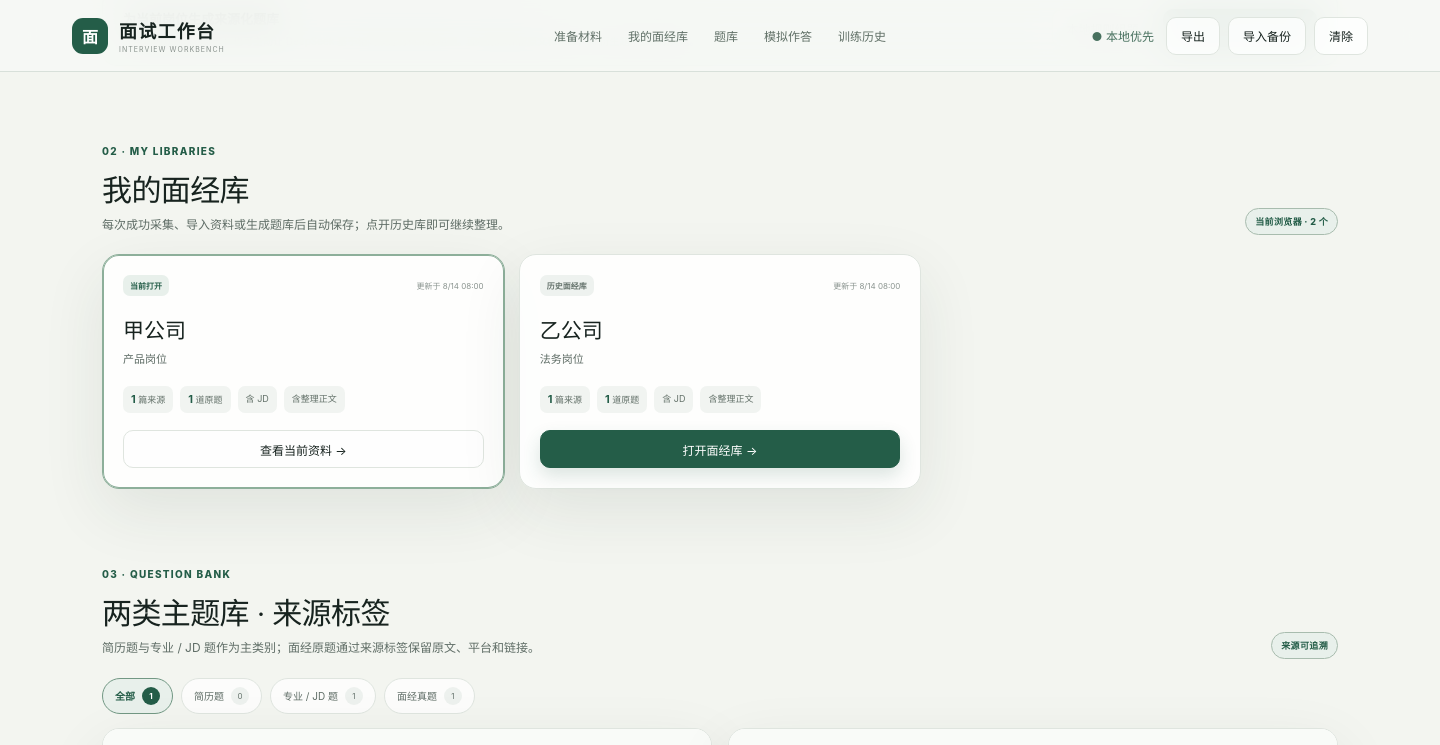
面试工作台页面核心流程 › 切换面经库后只显示当前岗位的 JD、面经和题库
The width and height of the screenshot is (1440, 745).
(page scrolled)
Expected: the element "乙公司" is shown, top-left (519, 254), bottom-right (921, 489)
Click the button "打开面经库 →".
click(720, 449)  # box top-left (540, 430), bottom-right (900, 468)
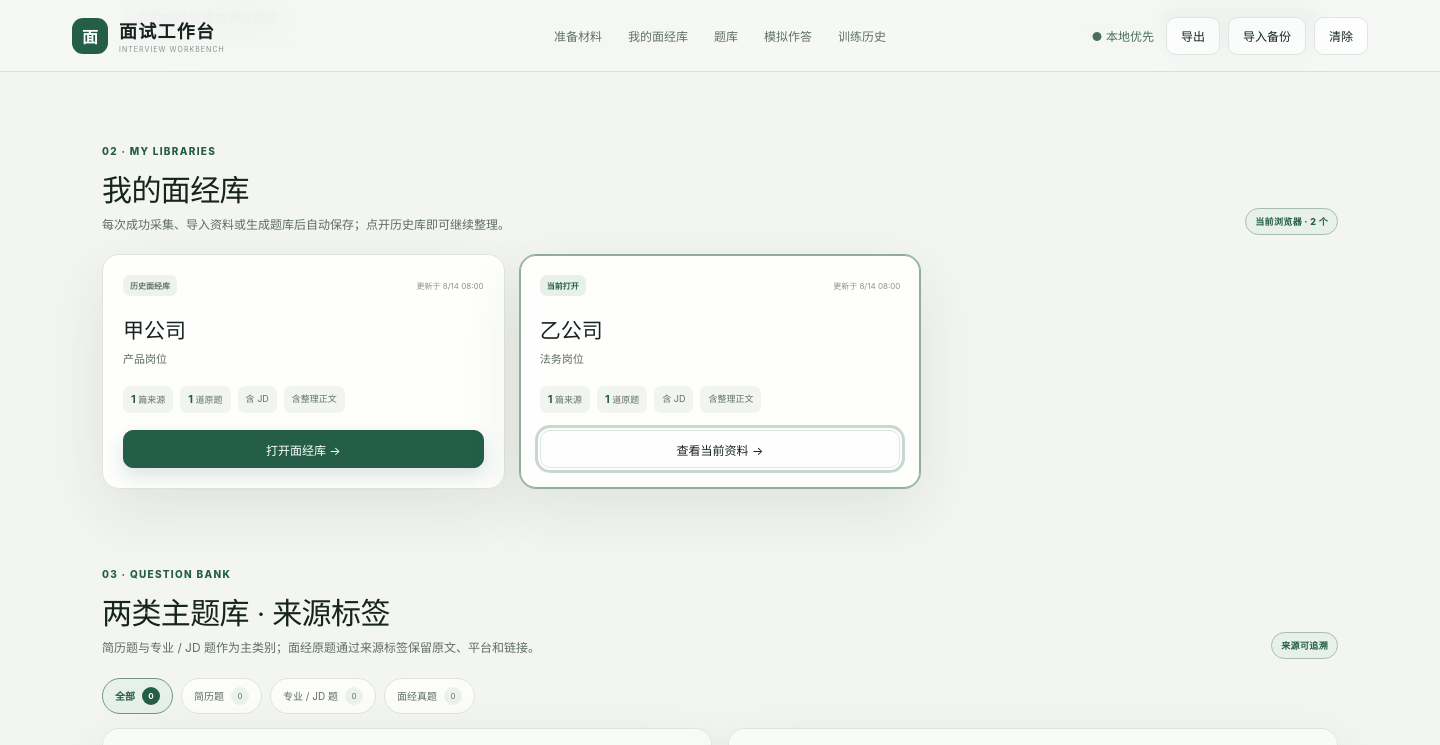
Expected: the text "甲公司专属面经" is not shown
Expected: the element "甲公司" is shown, top-left (102, 254), bottom-right (505, 489)
Click the button "打开面经库 →".
click(303, 449)  # box top-left (123, 430), bottom-right (484, 468)
(page scrolled)
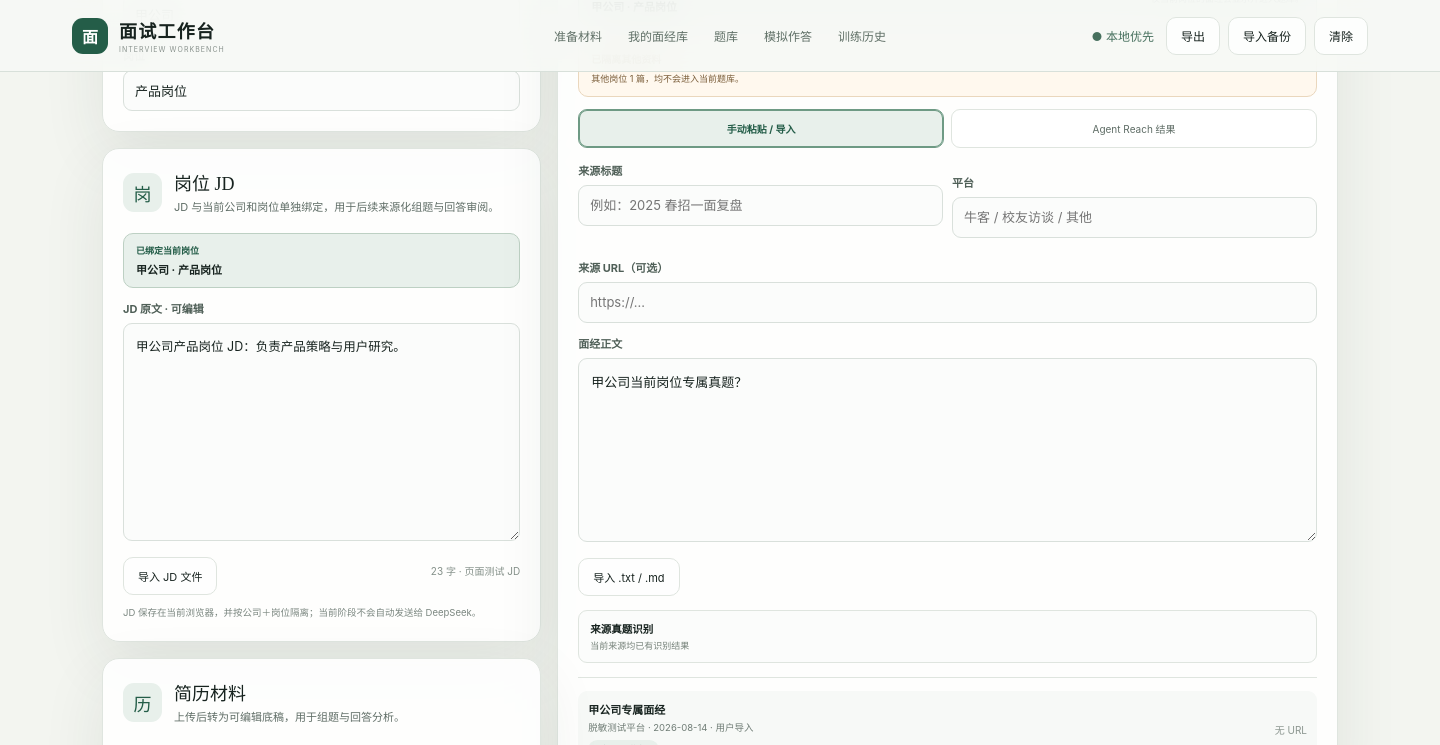
Result: the text box labelled "JD 原文 · 可编辑" holds "甲公司产品岗位 JD：负责产品策略与用户研究。" at top-left (123, 323), bottom-right (520, 541)
Result: the text "甲公司专属面经" is shown at top-left (588, 703), bottom-right (665, 717)
Result: the text box "甲公司当前岗位专属真题？" is shown at top-left (578, 358), bottom-right (1317, 542)
